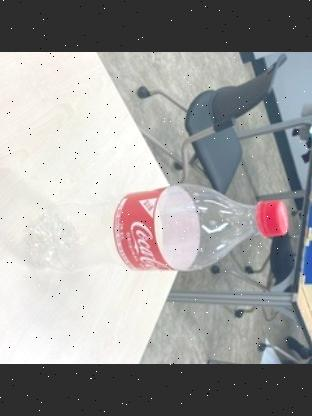Plastic Bottle: (21, 180, 291, 276)
